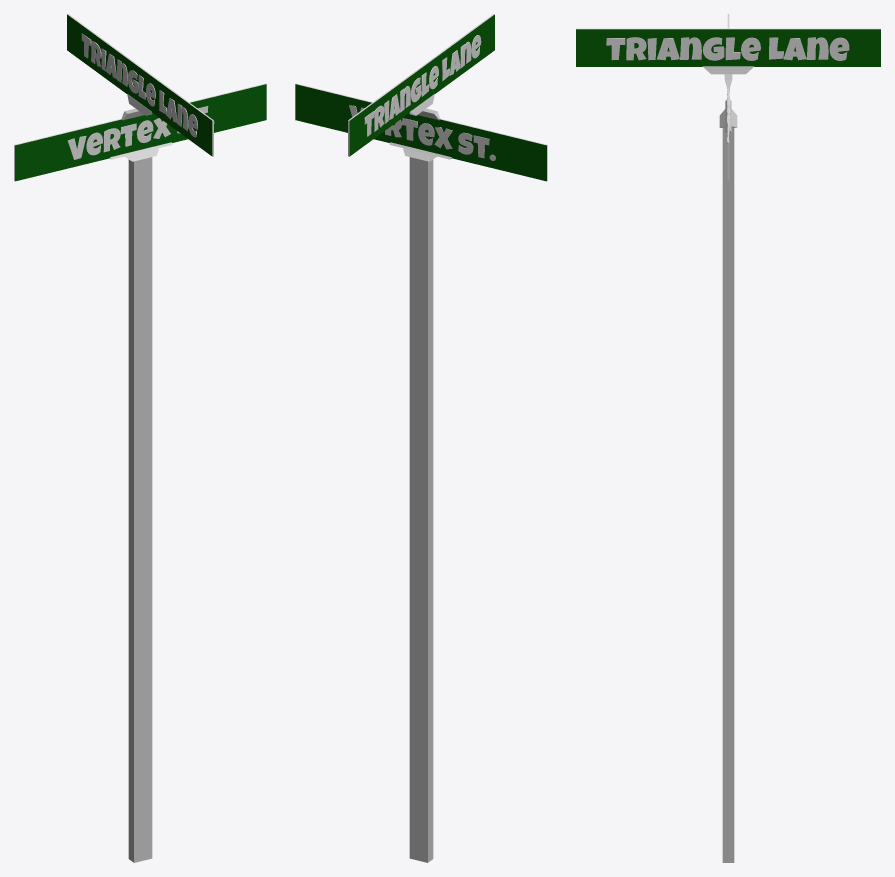
Rendered from StreetNameSign.fbx.
The picture shows the model from 3 angles, left to right: view 1: azimuth 30°, elevation 25°; view 2: azimuth 150°, elevation 25°; view 3: azimuth 270°, elevation 25°; orthographic projection. The views are drawn at different scales.
Visible parts, largest first — view 1: StreetNameSign, TriangleLaneText, VertexStText; view 2: StreetNameSign, TriangleLaneText, VertexStText; view 3: StreetNameSign, TriangleLaneText.
Boxes of the visible parts, left/top/right/bottom form: StreetNameSign: left=14, top=14, right=266, bottom=862; TriangleLaneText: left=81, top=33, right=197, bottom=137; VertexStText: left=67, top=106, right=214, bottom=159; StreetNameSign: left=295, top=14, right=547, bottom=862; TriangleLaneText: left=364, top=35, right=481, bottom=136; VertexStText: left=349, top=105, right=495, bottom=160; StreetNameSign: left=576, top=14, right=880, bottom=862; TriangleLaneText: left=606, top=37, right=849, bottom=60.
Bounding box in the file's own units: 0.7448 × 2.24 × 0.7448.
